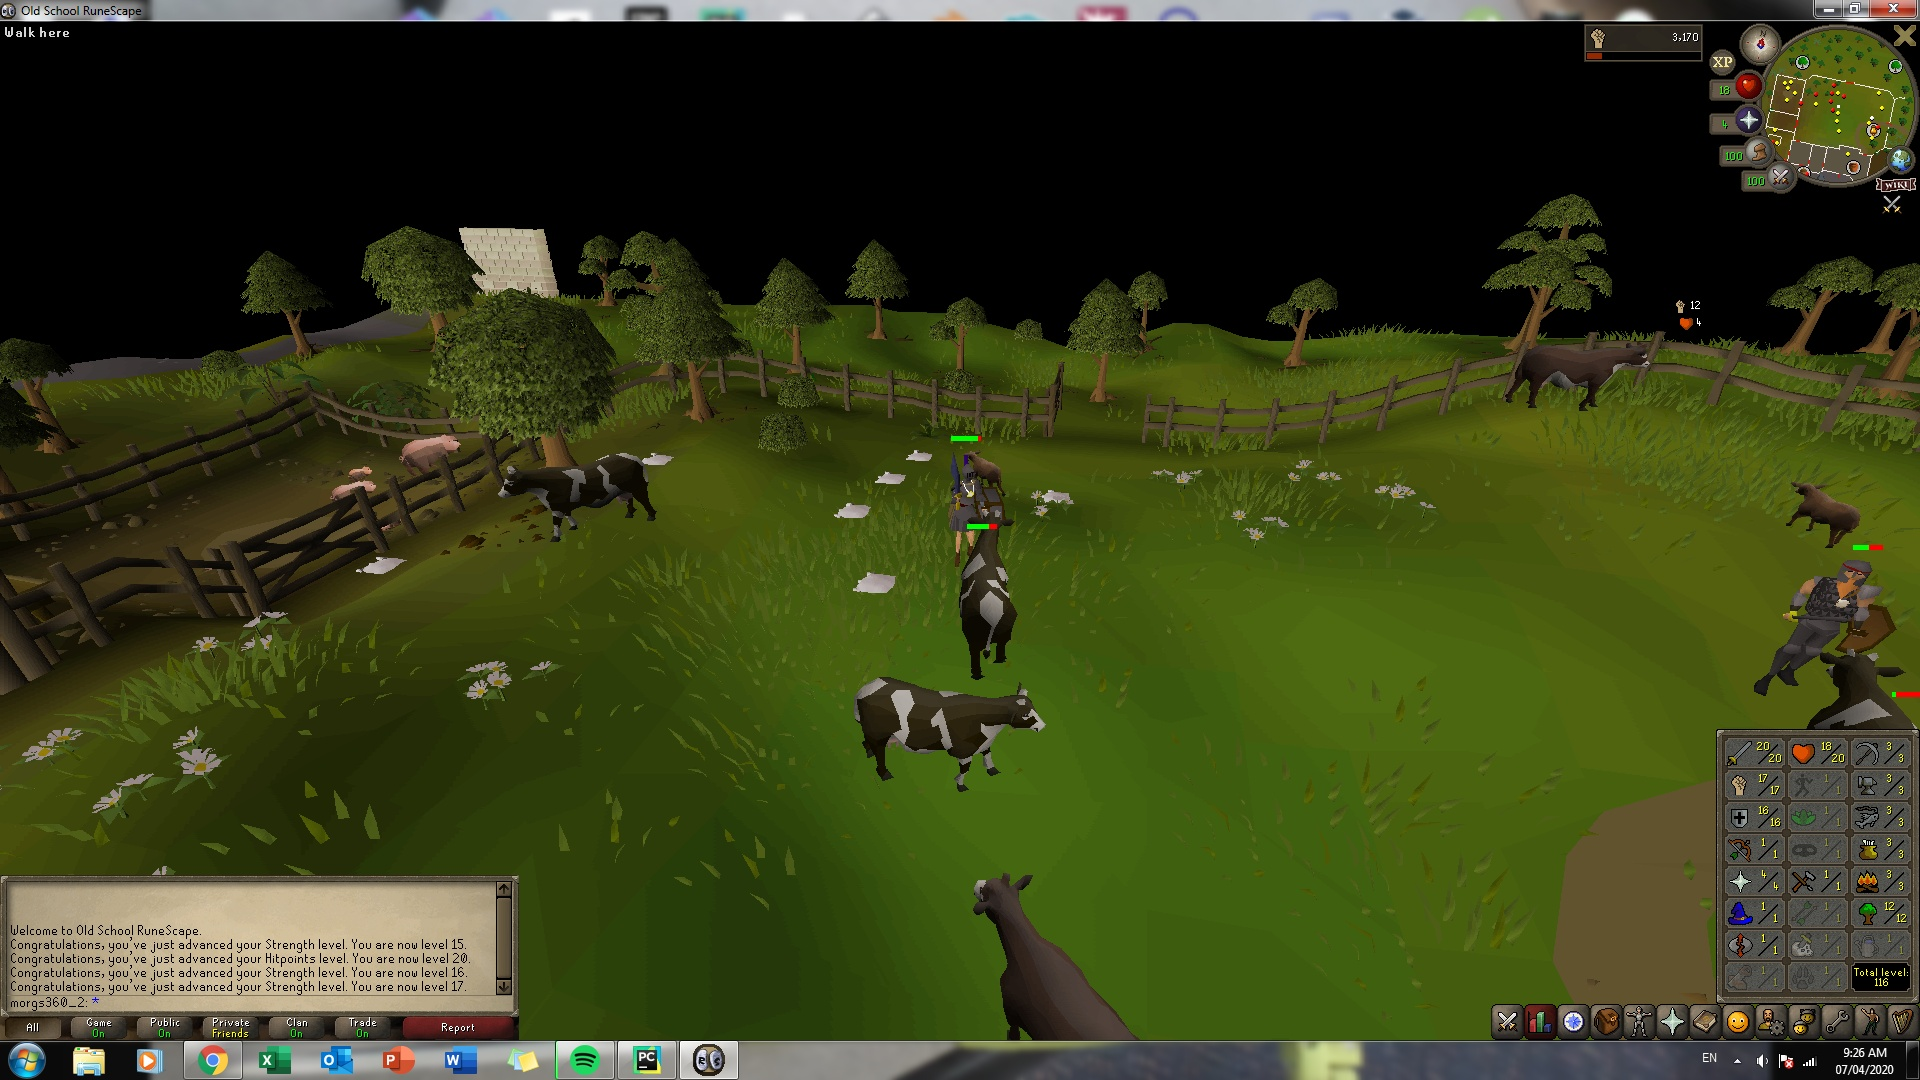cow: (969, 867, 1137, 1039), (855, 668, 1041, 795), (493, 449, 661, 542), (1500, 337, 1650, 419), (952, 512, 1019, 682), (1806, 651, 1912, 723), (1783, 480, 1860, 554), (961, 449, 999, 474)
player: (948, 461, 985, 542)
